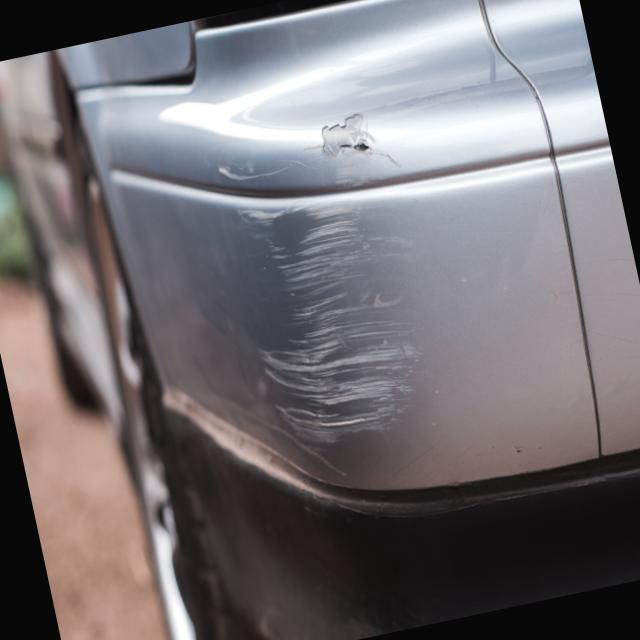Rayure: (189, 91, 480, 497), (207, 371, 355, 514)
